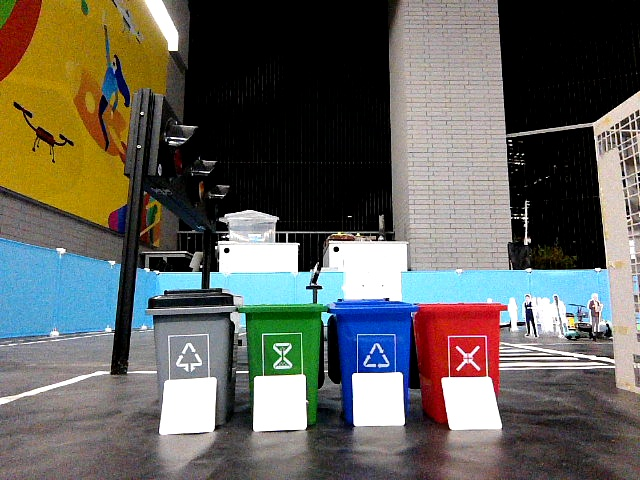blue_open: (337, 298, 408, 369)
green_open: (248, 303, 319, 372)
grey_close: (154, 290, 230, 375)
red_open: (421, 302, 496, 374)
